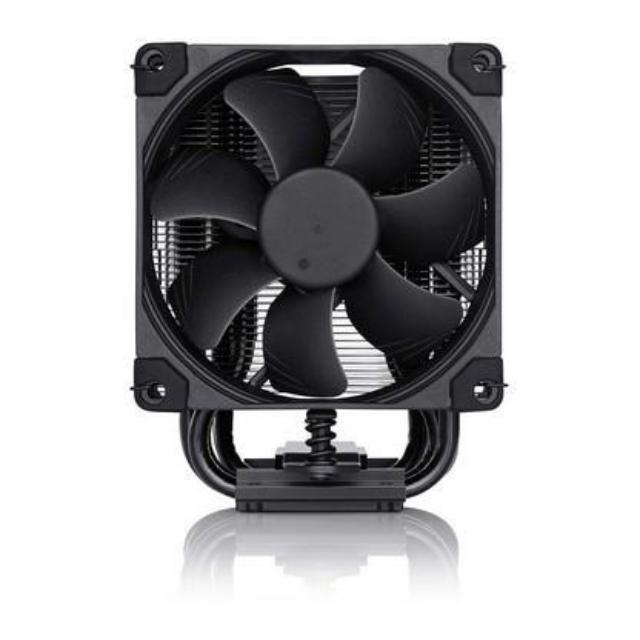CPU_Fan: (133, 39, 502, 514)
